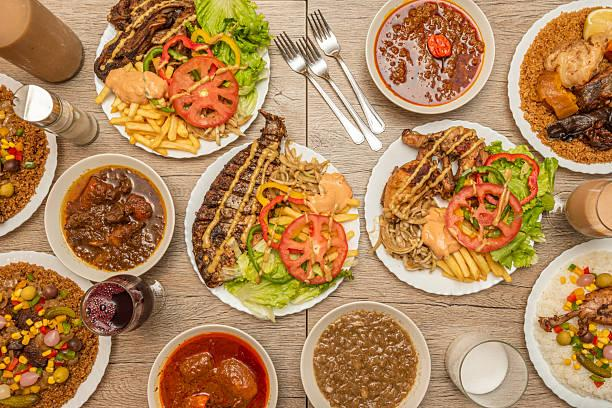Braised Crucian Carp: (361, 120, 536, 296), (182, 137, 345, 318), (93, 6, 264, 160), (505, 0, 608, 176), (1, 250, 113, 406), (44, 153, 172, 282), (521, 238, 611, 407), (364, 0, 492, 115), (301, 300, 430, 405), (147, 323, 277, 406)
